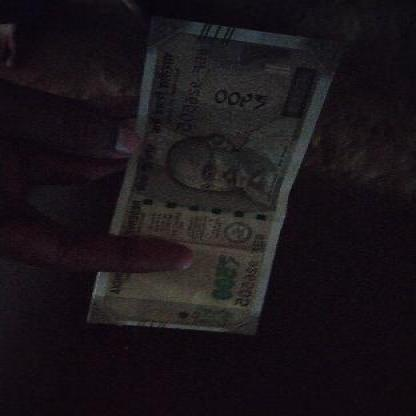New500Front: (76, 34, 342, 334)
